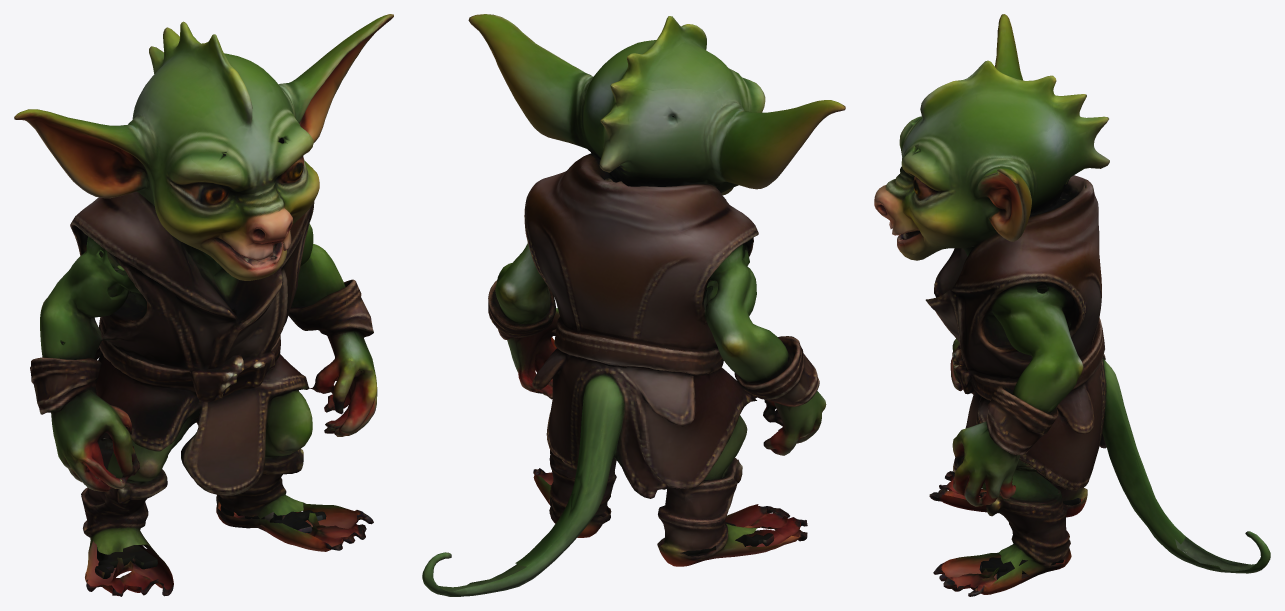
The model's file is asset.glb.
The picture shows the model from 3 angles, left to right: view 1: azimuth 30°, elevation 25°; view 2: azimuth 150°, elevation 25°; view 3: azimuth 270°, elevation 25°; orthographic projection. The views are drawn at different scales.
Parts seen in each view (by area): view 1: world; view 2: world; view 3: world.
Boxes of the visible parts, <box> form: world: <box>14,14,393,596</box>; world: <box>422,14,845,596</box>; world: <box>874,14,1270,596</box>.
Size of the model in its own units: 0.7646 by 1 by 0.7495.
1 material, 1 textured.
